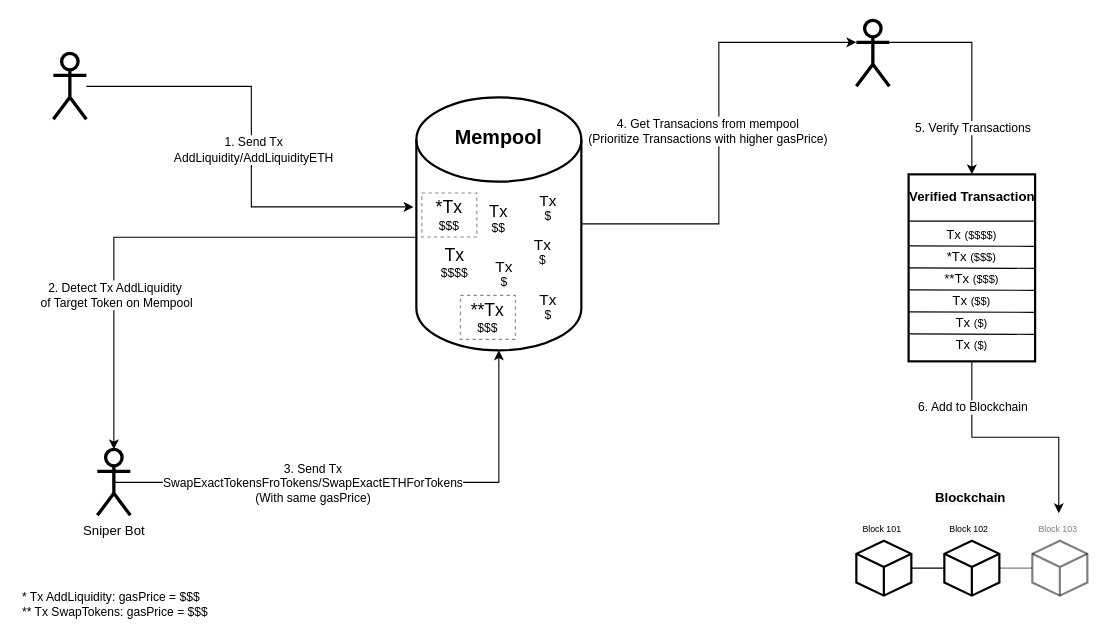
Image size: 1107x637. Some labels were removed from this diagram. The centre of each missing label's shape, as x and y in pixels:
"Liquidity Provider" belongs at pixel 69 85.
"Miner" belongs at pixel 872 52.
